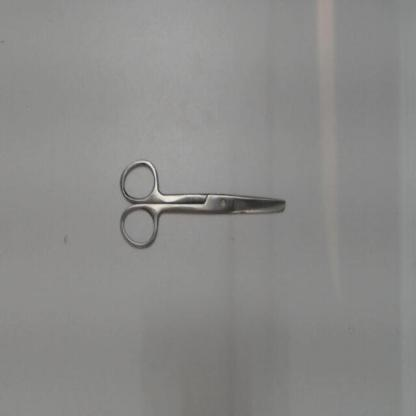Dressing Scissors: (113, 154, 296, 257)
